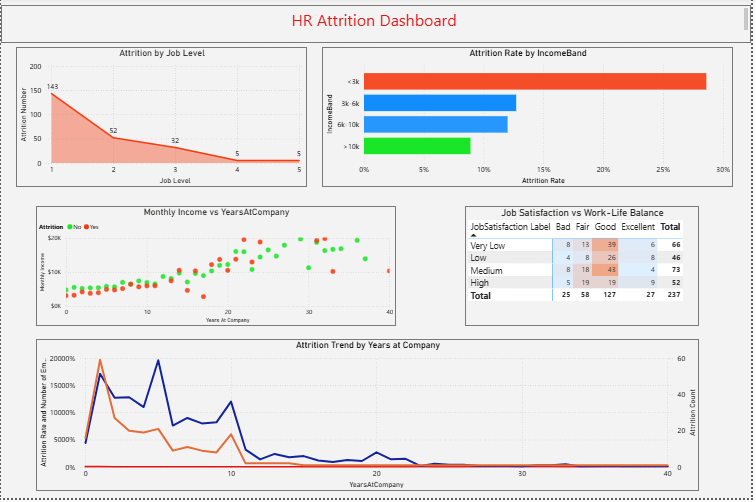

What the dashboard file says about the page in this screenshot:
{"tool":"powerbi","page":{"name":"Income Analysis","canvas":[1500,1000],"ordinal":1},"visuals":[{"type":"scatterChart","title":" Monthly Income vs YearsAtCompany","fields":{"Series":["HR-Employee-Attrition.AttritionFlag"],"X":["HR-Employee-Attrition.YearsAtCompany"],"Y":["HR-Employee-Attrition.Avg Monthly Income"]},"box":[70,416,720,240],"z":3000},{"type":"areaChart","title":"Attrition by Job Level","fields":{"Category":["HR-Employee-Attrition.JobLevel"],"Y":["HR-Employee-Attrition.Attrition Count"]},"box":[30,98,582,280],"z":4001},{"type":"pivotTable","title":"Job Satisfaction vs Work-Life Balance","fields":{"Values":["CountNonNull(HR-Employee-Attrition.EmployeeNumber)"],"Rows":["HR-Employee-Attrition.JobSatisfaction Label"],"Columns":["HR-Employee-Attrition.WorkLifeBalance Label"]},"box":[928,416,468,240],"z":4003},{"type":"textbox","box":[0,14,1500,76],"z":4005},{"type":"lineChart","title":"Attrition Trend by Years at Company","fields":{"Category":["HR-Employee-Attrition.YearsAtCompany"],"Y":["HR-Employee-Attrition.Attrition Rate","Count(HR-Employee-Attrition.EmployeeNumber)"],"Y2":["HR-Employee-Attrition.Attrition Count"]},"box":[70,682,1326,304],"z":4006},{"type":"barChart","fields":{"Category":["HR-Employee-Attrition.IncomeBand"],"Y":["HR-Employee-Attrition.Attrition Rate"]},"box":[642,98,822,280],"z":4007}]}

Visuals, with their boxes in screenshot pixels (x1, y1, x2, y2), scaled from the page's 1500x1000 canvas onto the 756x502 screenshot:
" Monthly Income vs YearsAtCompany" scatterChart: {"left": 35, "top": 209, "right": 398, "bottom": 329}
"Attrition by Job Level" areaChart: {"left": 15, "top": 49, "right": 308, "bottom": 190}
"Job Satisfaction vs Work-Life Balance" pivotTable: {"left": 468, "top": 209, "right": 704, "bottom": 329}
textbox: {"left": 0, "top": 7, "right": 755, "bottom": 45}
"Attrition Trend by Years at Company" lineChart: {"left": 35, "top": 342, "right": 704, "bottom": 495}
barChart - HR-Employee-Attrition.IncomeBand x HR-Employee-Attrition.Attrition Rate: {"left": 324, "top": 49, "right": 738, "bottom": 190}
